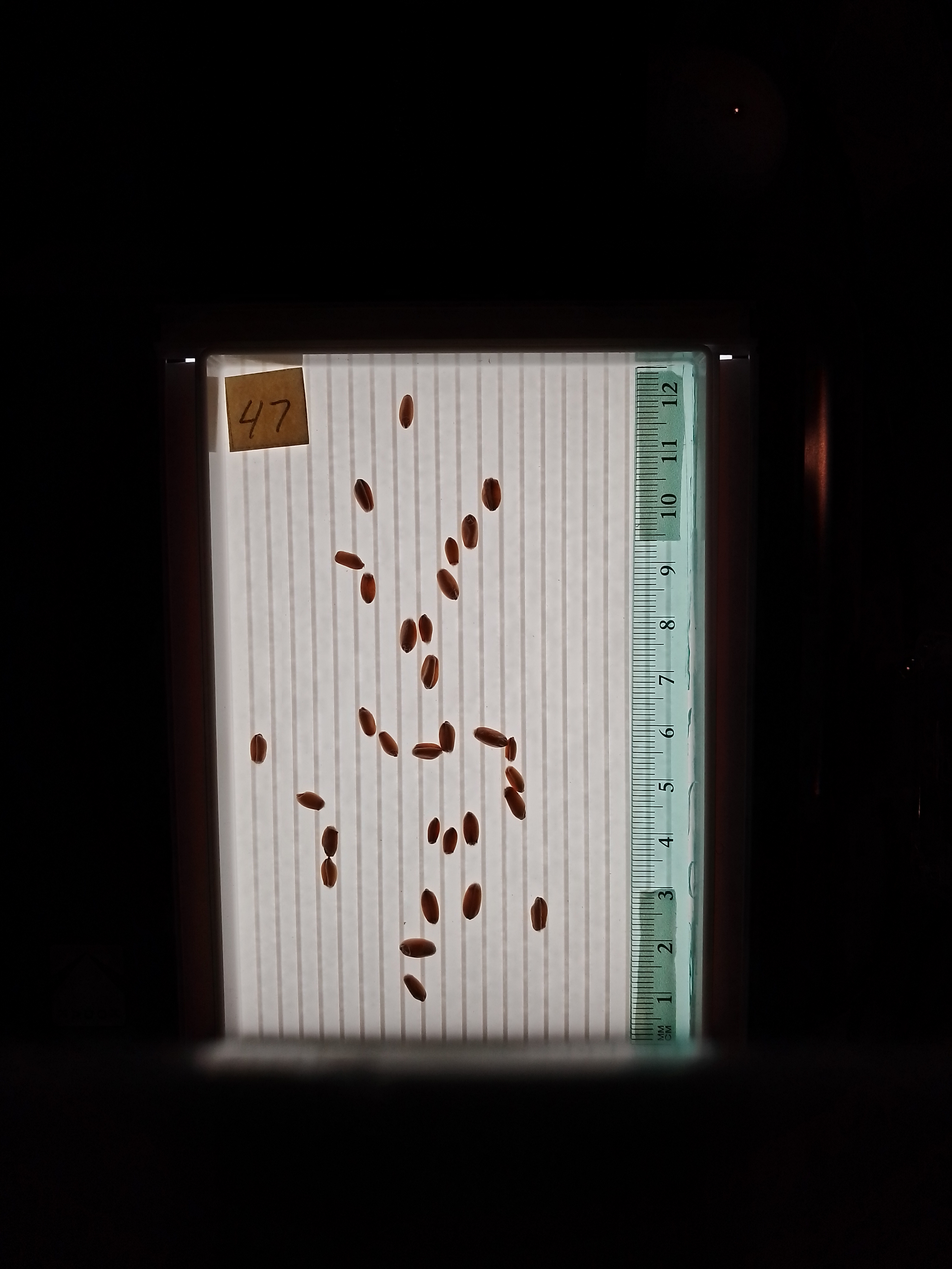seed mask: (400, 937, 435, 958), (475, 727, 508, 748), (482, 477, 502, 511), (462, 884, 481, 919), (354, 479, 374, 512), (505, 788, 526, 819), (438, 570, 459, 599), (421, 656, 439, 689), (400, 619, 417, 653), (421, 891, 439, 923), (404, 975, 426, 1001), (531, 898, 548, 931), (461, 516, 477, 549), (506, 766, 525, 793), (463, 813, 479, 845), (322, 827, 339, 857), (399, 396, 414, 428), (335, 552, 363, 569), (359, 709, 376, 737), (250, 735, 267, 763), (298, 793, 324, 811), (360, 574, 376, 603), (439, 723, 455, 752), (413, 743, 441, 759), (380, 732, 398, 756), (321, 860, 337, 887), (445, 537, 459, 565), (443, 828, 458, 854), (419, 615, 432, 643), (427, 819, 440, 843), (506, 738, 517, 760)
